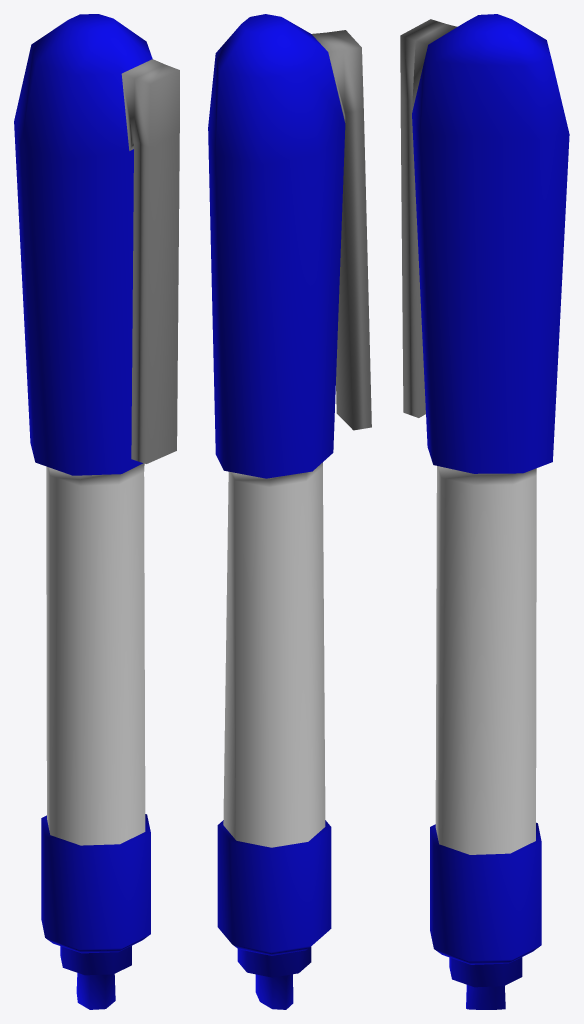
The model's file is SM_marker.fbx.
3 renders of one model, left to right at view 1: azimuth 90°, elevation 25°; view 2: azimuth 150°, elevation 25°; view 3: azimuth 270°, elevation 25°, orthographic.
Visible parts, largest first — view 1: Human 2.003; view 2: Human 2.003; view 3: Human 2.003.
Boxes of the visible parts, bbox=[...] form: Human 2.003: bbox=[14, 14, 179, 1009]; Human 2.003: bbox=[208, 14, 371, 1009]; Human 2.003: bbox=[400, 14, 569, 1009].
Size of the model in its own units: 1.26 by 9.93 by 1.53.
